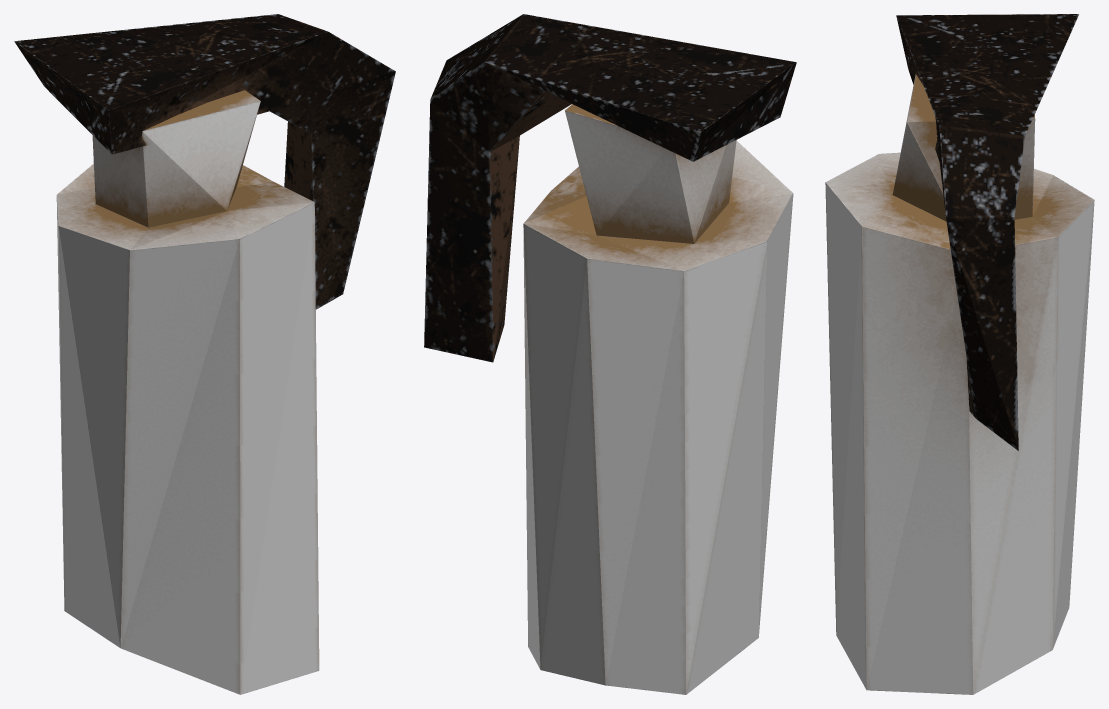
The model's file is grenade.fbx.
3 views of the same model, side by side, from view 1: azimuth 30°, elevation 25°; view 2: azimuth 150°, elevation 25°; view 3: azimuth 270°, elevation 25° (orthographic). The views are drawn at different scales.
Parts seen in each view (by area): view 1: grenade; view 2: grenade; view 3: grenade.
Boxes of the visible parts, x1,y1,x2,y2 form: grenade: (14, 14, 395, 694); grenade: (424, 14, 796, 694); grenade: (825, 14, 1094, 694).
Bounding box in the file's own units: 77.55 × 138 × 57.28.
